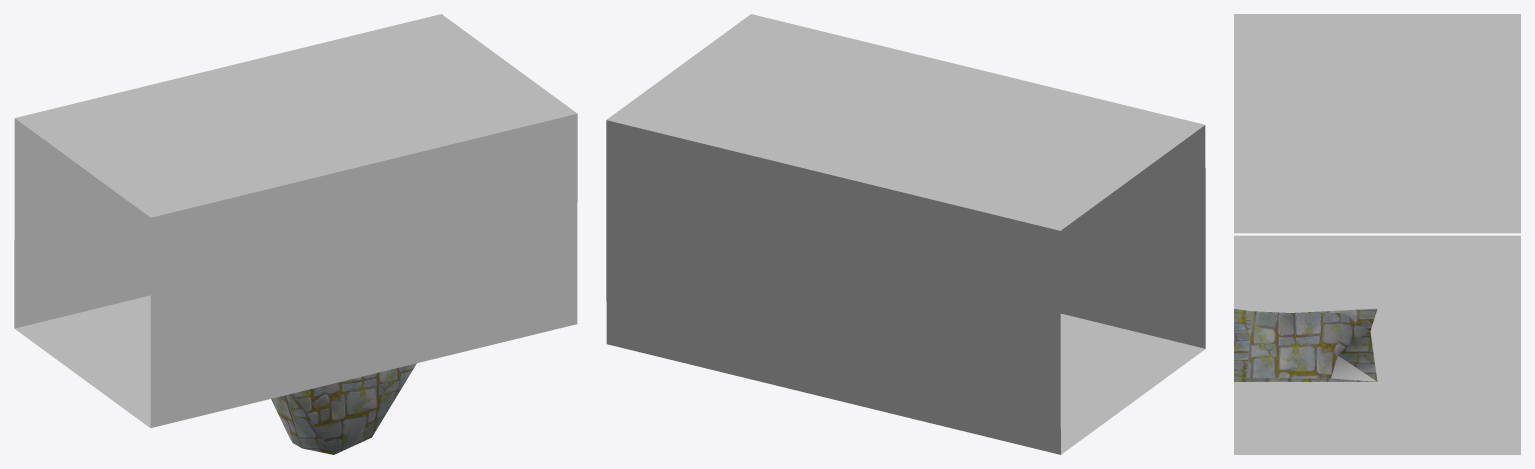
Rendered from broken.fbx.
The picture shows the model from 3 angles, left to right: view 1: azimuth 30°, elevation 25°; view 2: azimuth 150°, elevation 25°; view 3: azimuth 270°, elevation 25°; orthographic projection. The views are drawn at different scales.
Parts seen in each view (by area): view 1: Camino.002, Camino.003; view 2: Camino.002; view 3: Camino.002, Camino.003.
Part boxes in pixels (left/top/right/bottom): Camino.002: left=14, top=14, right=577, bottom=428; Camino.003: left=271, top=363, right=416, bottom=454; Camino.002: left=606, top=14, right=1205, bottom=454; Camino.002: left=1234, top=14, right=1520, bottom=454; Camino.003: left=1234, top=308, right=1377, bottom=381.
Bounding box in the file's own units: 635 × 408 × 351.
